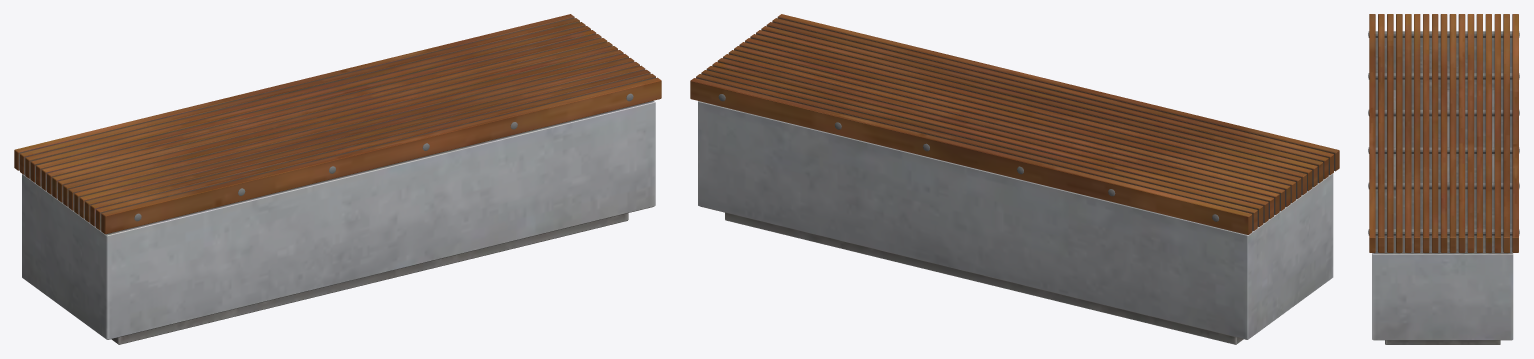
The model's file is strAsset_09.glb.
3 views of the same model, side by side, from view 1: azimuth 30°, elevation 25°; view 2: azimuth 150°, elevation 25°; view 3: azimuth 270°, elevation 25° (orthographic). The views are drawn at different scales.
Visible parts, largest first — view 1: geometry_0; view 2: geometry_0; view 3: geometry_0.
Part boxes in pixels (x1,y1,x2,y2): geometry_0: (14, 14, 661, 344); geometry_0: (690, 14, 1339, 344); geometry_0: (1368, 14, 1519, 344).
Size of the model in its own units: 0.5321 by 0.1298 by 0.152.
Materials: 1 (1 with a texture image).
